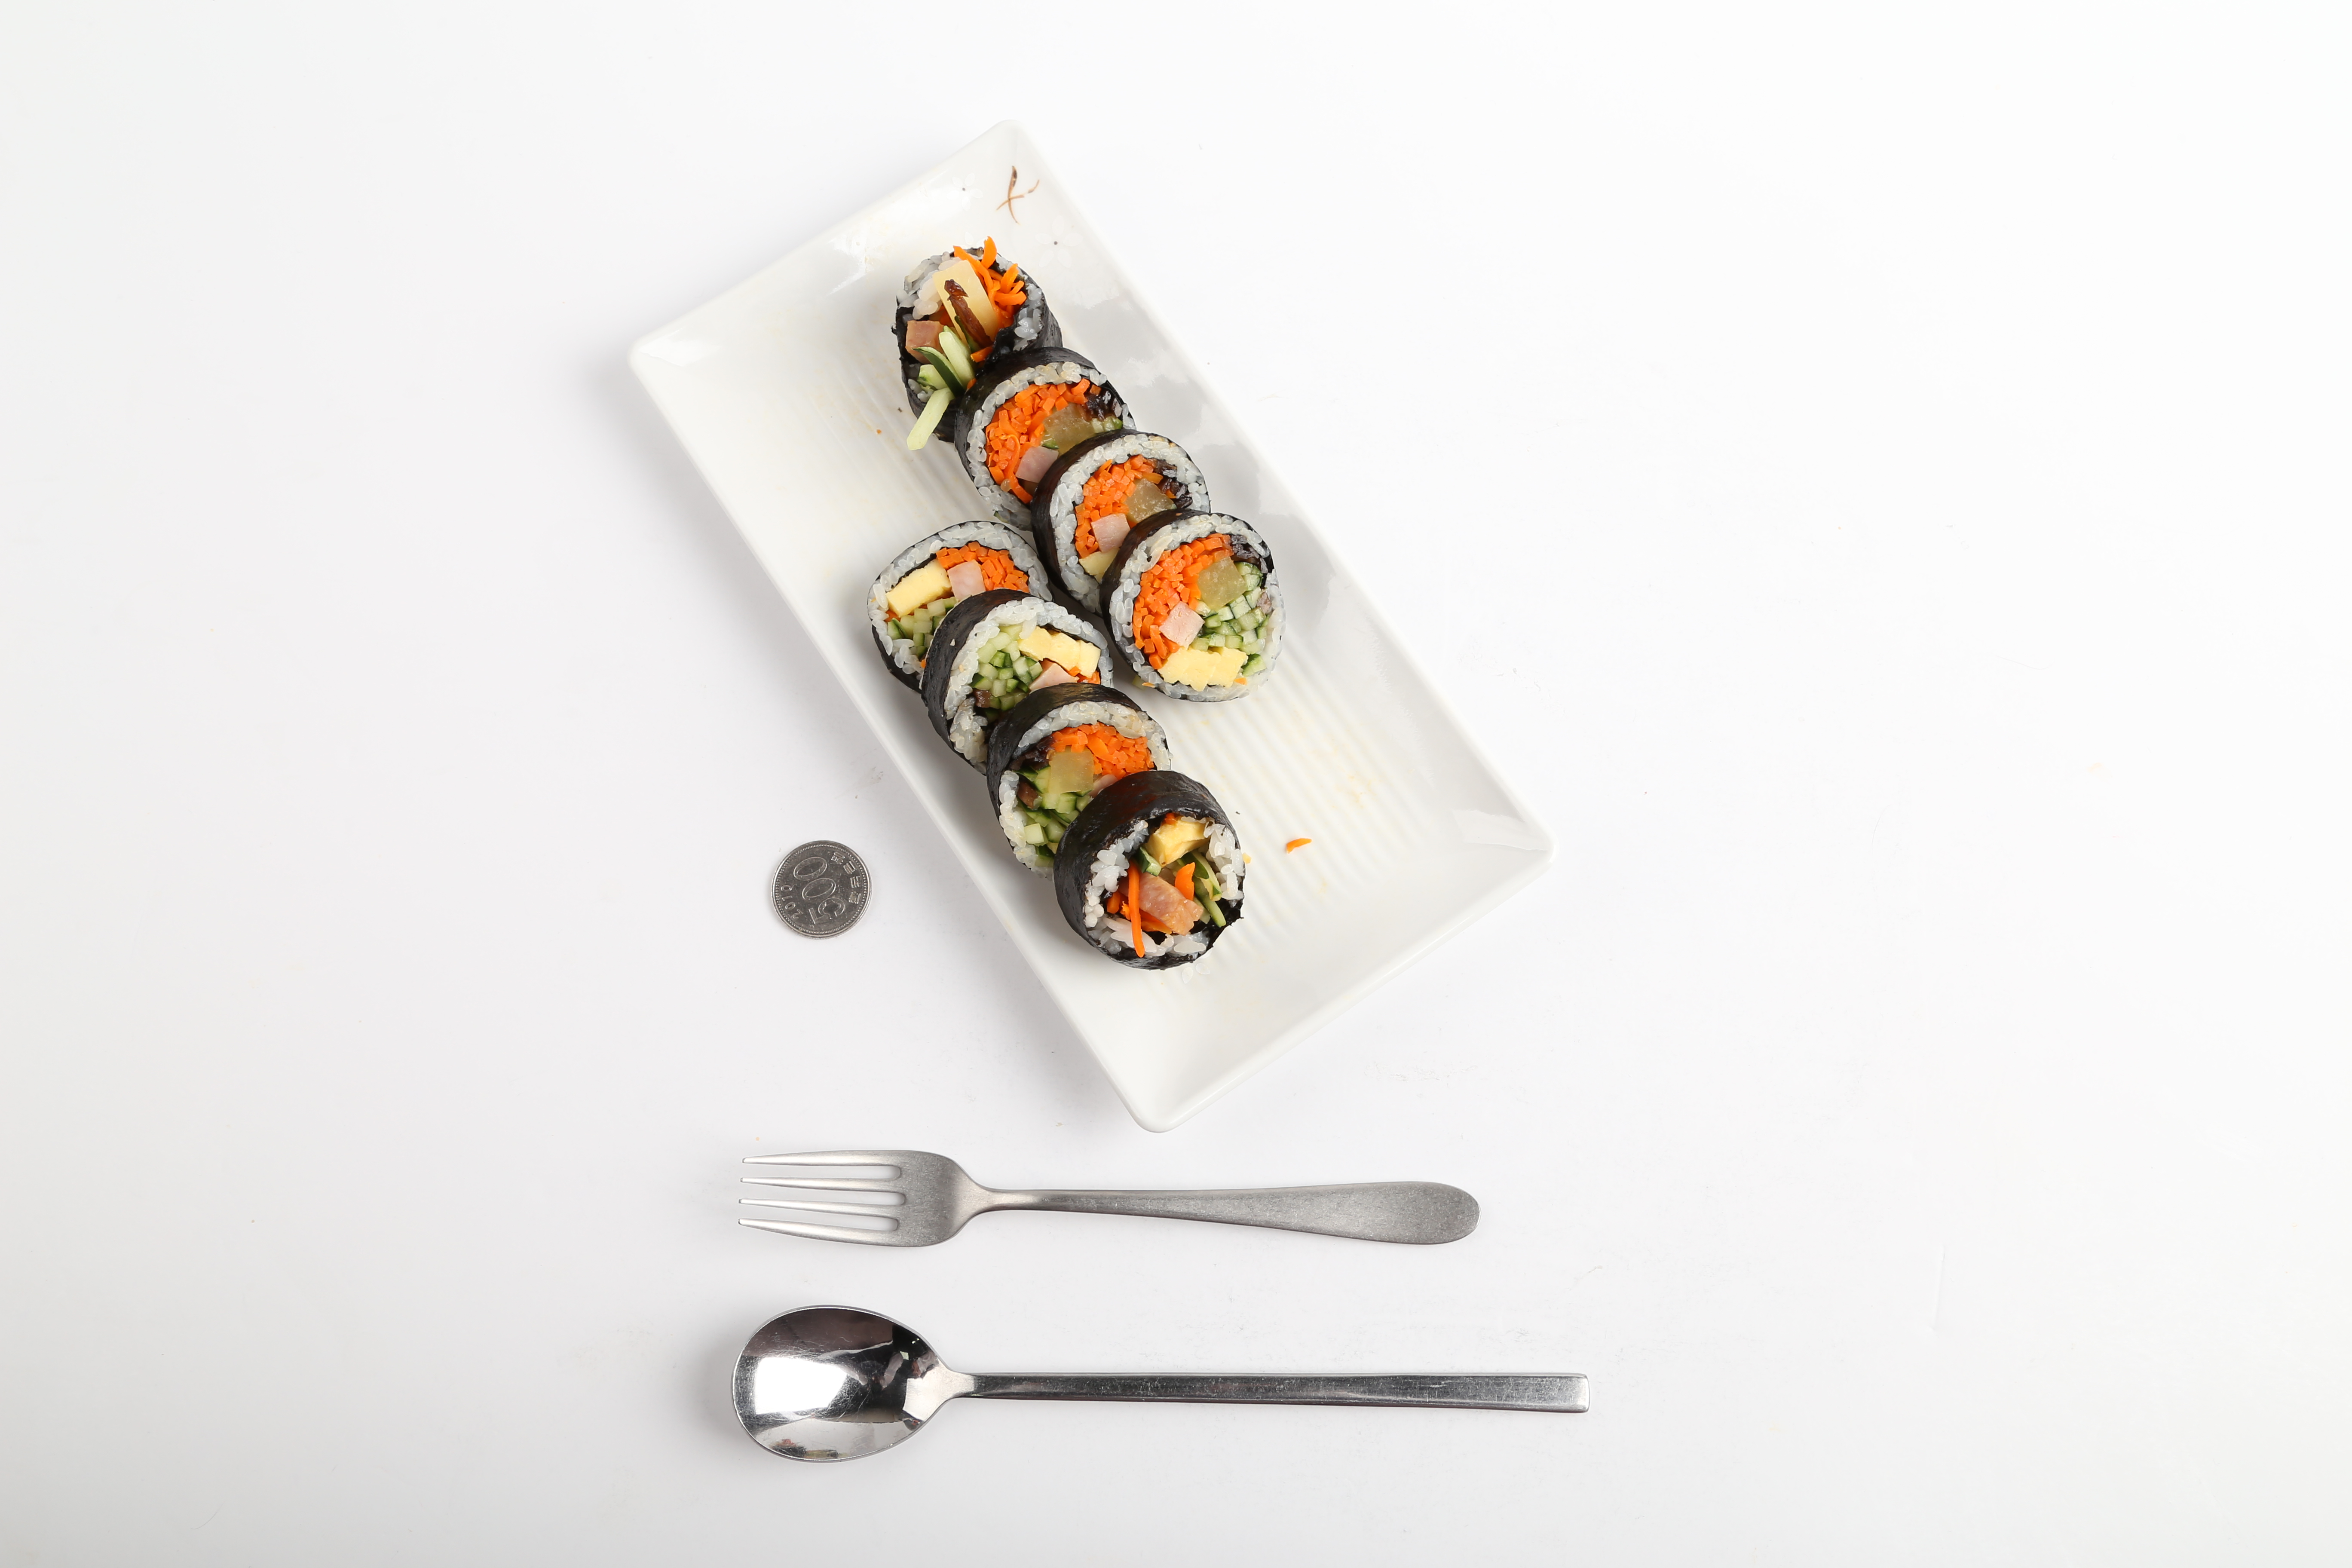dish: (618, 121, 1549, 1134)
ref_coin: (763, 831, 877, 947)
ref_fork: (730, 1144, 1036, 1256)
ref_spoon: (730, 1298, 1034, 1468)
김밥: (859, 243, 1286, 969)
